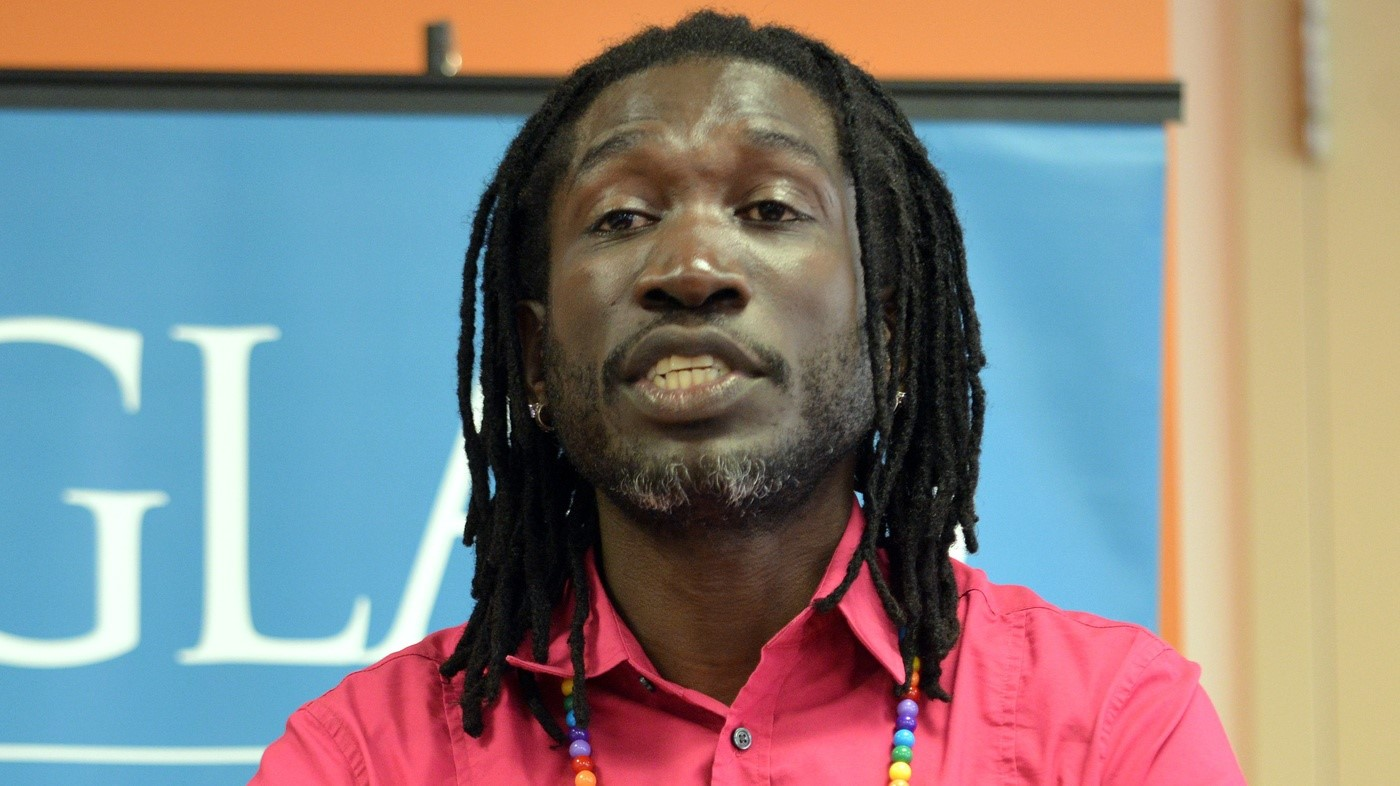face_no_mask: (463, 15, 973, 524)
